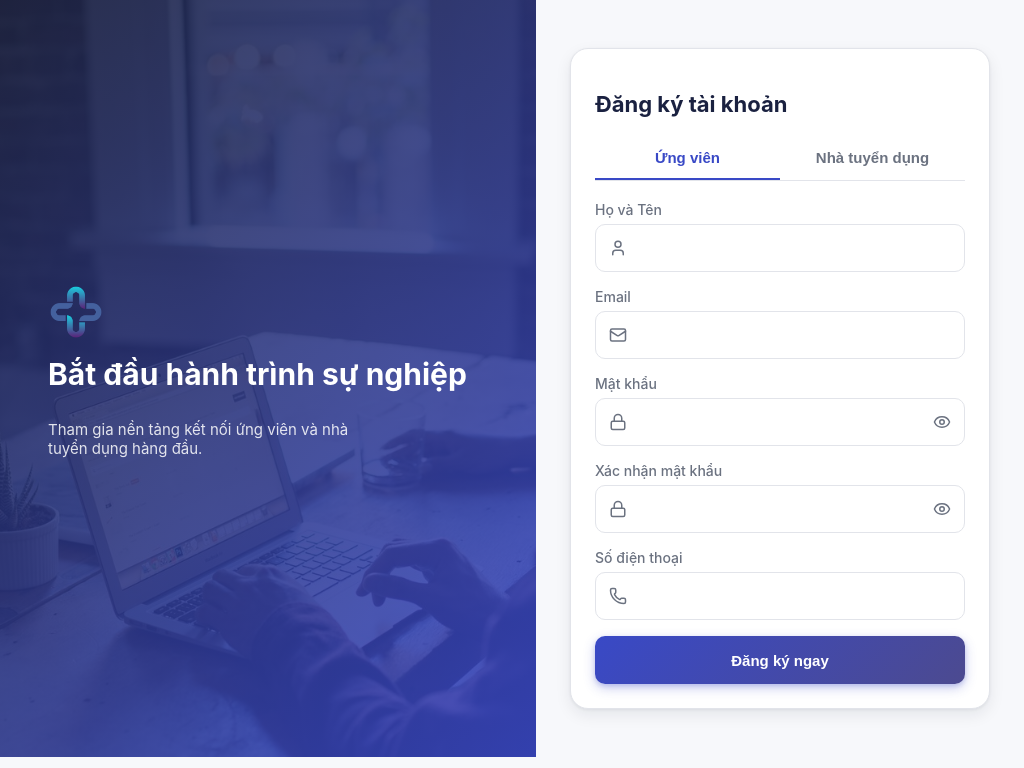
Test: Register - CandidateForm (QD01) › surfaces the server's duplicate-email error message without inventing its own wording
Type "Nguyen Van B" into the field below "Họ và Tên".
click(780, 248); type("Nguyen Van B")  # box [595, 224, 965, 272]
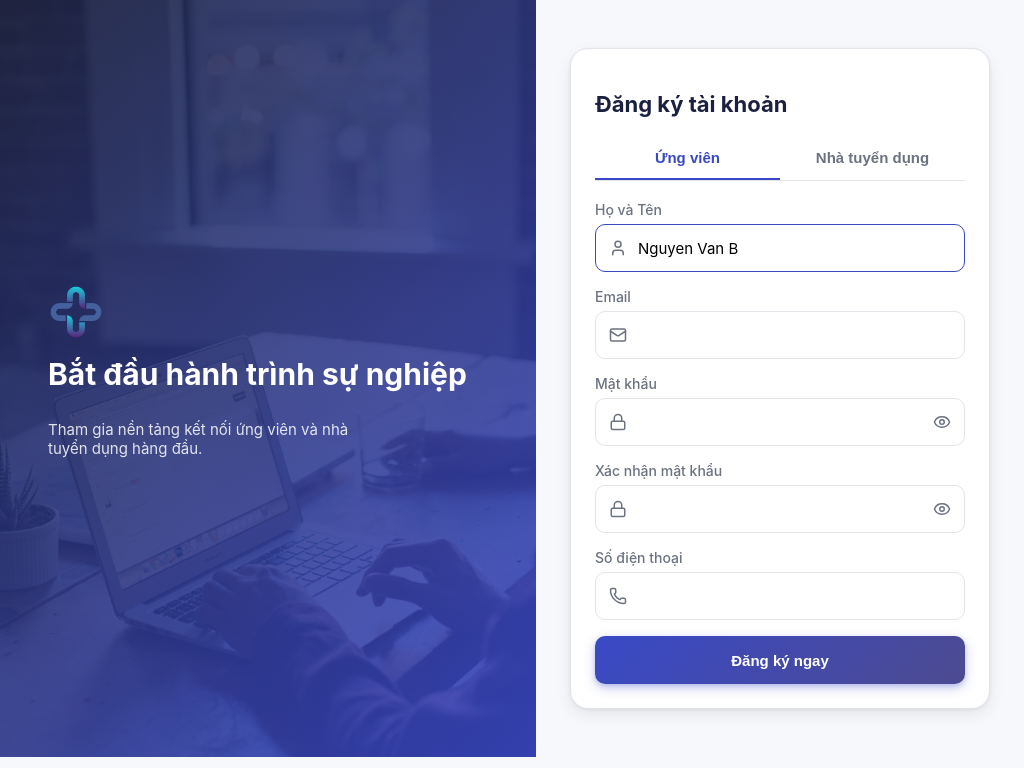
Type "trung@test.local" into the field below "Email".
click(780, 335); type("trung@test.local")  # box [595, 311, 965, 359]
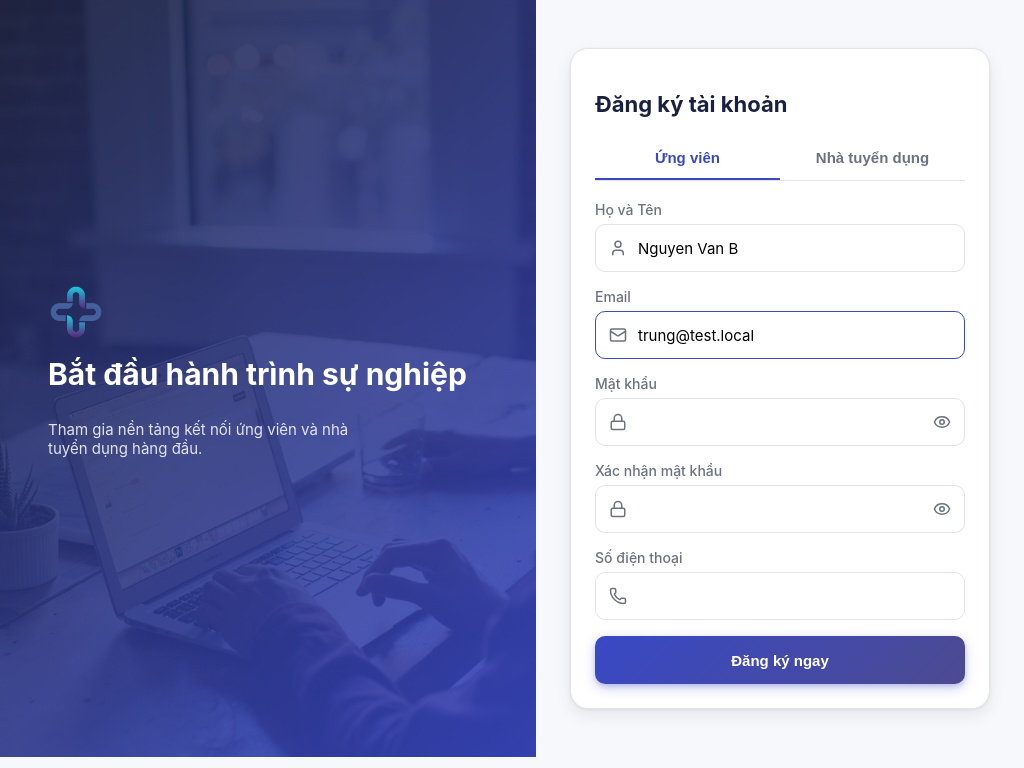
Type "Test1234" into the 1st password field.
click(780, 422); type("Test1234")  # box [595, 398, 965, 446]
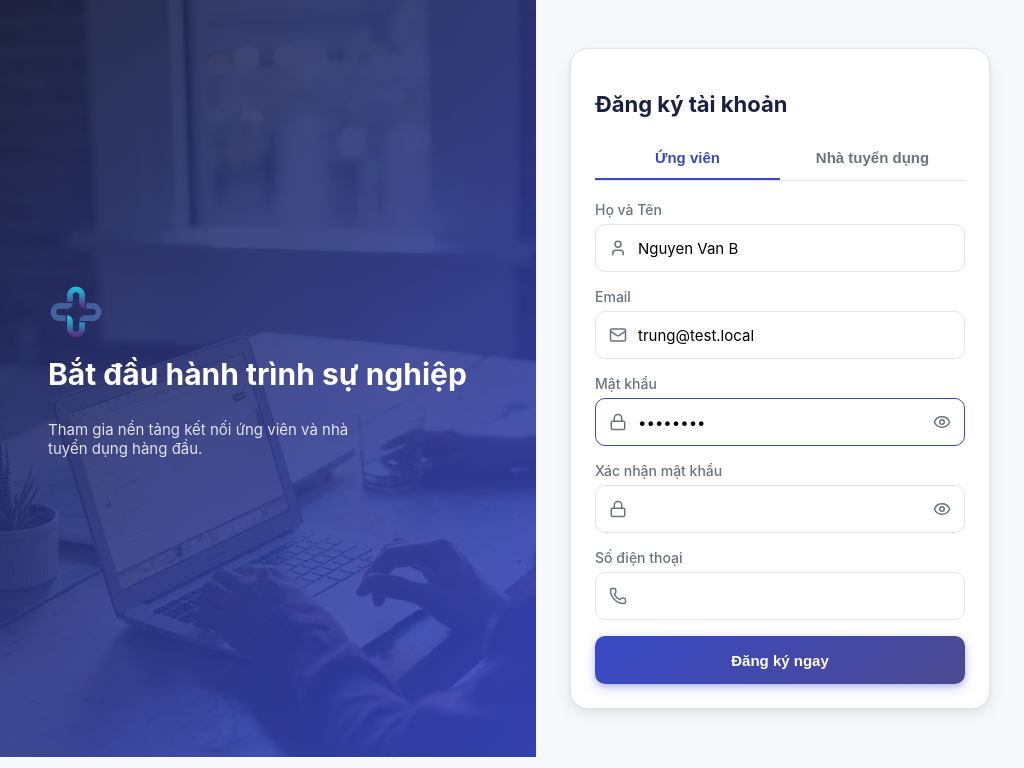
Type "Test1234" into the password field below "Xác nhận mật khẩu".
click(780, 509); type("Test1234")  # box [595, 485, 965, 533]
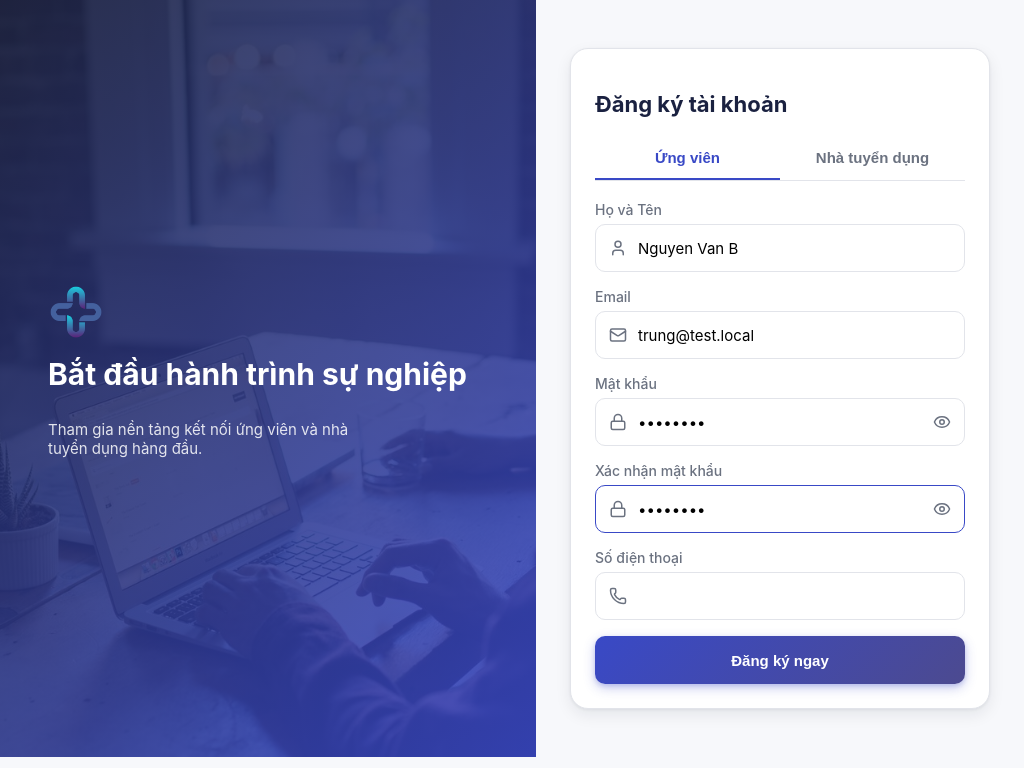
Click the button "Đăng ký ngay".
click(780, 660)  # box [595, 636, 965, 684]
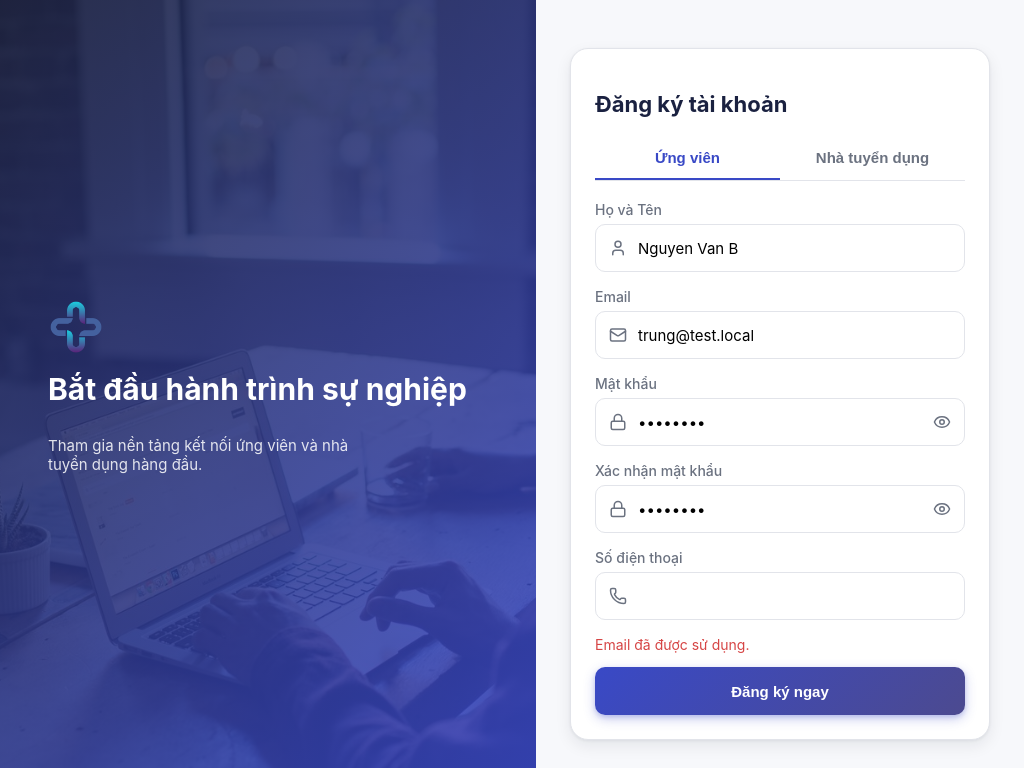
expect the text "Email đã được sử dụng." is shown: met, box [595, 636, 749, 653]
